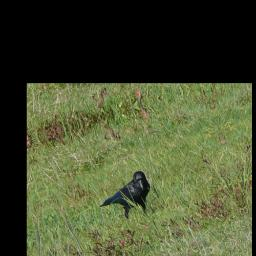Crow: (92, 169, 158, 230)
